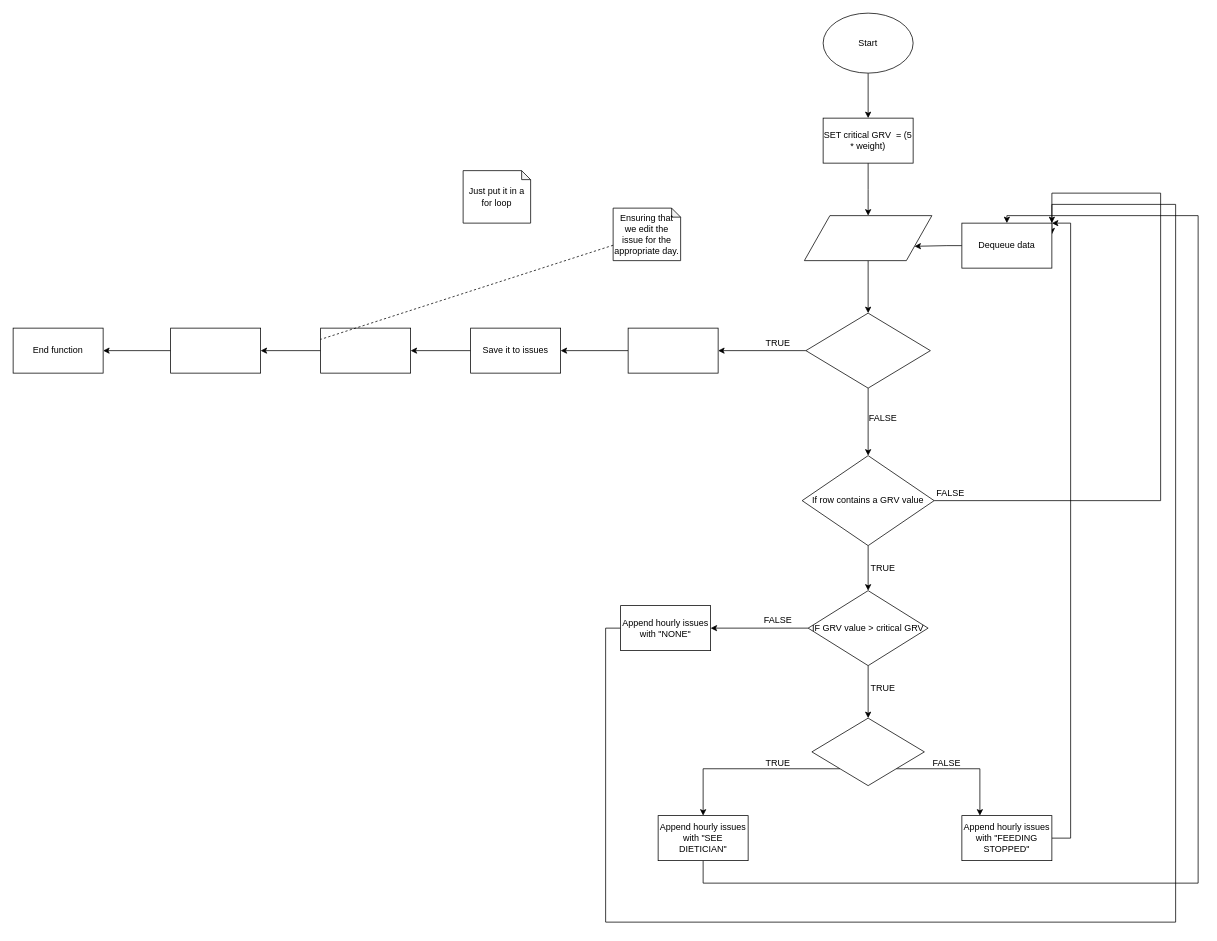
Image size: 1217x941. Some labels were removed from this diagram. Here are the shapes that lost their labels. From the top down, the centre of each, then its label:
(868,238): Get the next row from patient's data
(215,350): Print issue
(365,350): Increment index of issues by 1
(672,350): Find the last value in hourly issues that is not 'NONE'
(867,350): IF current row contains a value in day
(867,751): If issues contains "FEEDING STOPPED twice
